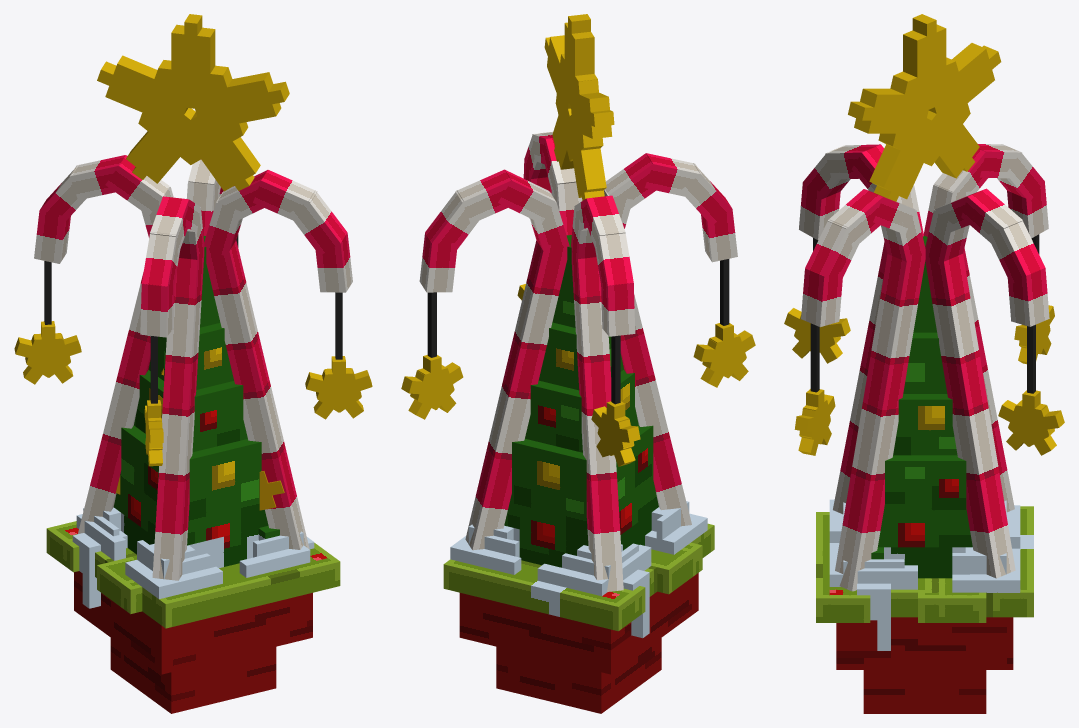
The picture shows the model from 3 angles, left to right: view 1: azimuth 30°, elevation 25°; view 2: azimuth 150°, elevation 25°; view 3: azimuth 270°, elevation 25°; orthographic projection.
Visible parts, largest first — view 1: DI-Local, dabz$$(3)-Local, dabz-Local, dabz$$(2)-Local, z1$$(1)-Local, z4$$(1)-Local, z3$$(1)-Local, z2$$(1)-Local, z5$$(1)-Local, da05-Local, da04-Local, da03$$(2)-Local (+17 smaller); view 2: DI-Local, dabz$$(1)-Local, dabz$$(2)-Local, dabz$$(3)-Local, z2$$(1)-Local, z1$$(1)-Local, z3$$(1)-Local, da05$$(2)-Local, da06$$(1)-Local, da04$$(1)-Local, da06$$(2)-Local, da03$$(1)-Local (+20 smaller); view 3: DI-Local, dabz-Local, dabz$$(1)-Local, z1$$(1)-Local, z5$$(1)-Local, z3$$(1)-Local, z4$$(1)-Local, z2$$(1)-Local, dabz$$(3)-Local, da05$$(1)-Local, da06-Local, da06$$(1)-Local (+29 smaller).
Part boxes in pixels (x1,y1,x2,y2): DI-Local: (46,236,340,713); dabz$$(3)-Local: (152,248,204,580); dabz-Local: (206,240,309,549); dabz$$(2)-Local: (78,272,150,533); z1$$(1)-Local: (158,14,227,111); z4$$(1)-Local: (168,104,260,191); z3$$(1)-Local: (126,98,213,183); z2$$(1)-Local: (97,55,194,138); z5$$(1)-Local: (190,67,289,140); da05-Local: (288,190,347,255); da04-Local: (253,170,317,220); da03$$(2)-Local: (105,155,169,215); DI-Local: (443,235,714,713); dabz$$(1)-Local: (465,240,567,550); dabz$$(2)-Local: (571,250,623,591); dabz$$(3)-Local: (620,294,691,526); z2$$(1)-Local: (568,77,614,147); z1$$(1)-Local: (561,14,597,115); z3$$(1)-Local: (563,115,606,200); da05$$(2)-Local: (593,231,633,291); da06$$(1)-Local: (419,232,457,292); da04$$(1)-Local: (455,169,511,223); da06$$(2)-Local: (601,283,635,336); da03$$(1)-Local: (498,170,555,223); DI-Local: (816,235,1033,713); dabz-Local: (835,252,925,591); dabz$$(1)-Local: (925,254,1015,578); z1$$(1)-Local: (893,14,955,118); z5$$(1)-Local: (848,76,934,146); z3$$(1)-Local: (915,95,979,178); z4$$(1)-Local: (869,111,945,201); z2$$(1)-Local: (928,43,1001,136); dabz$$(3)-Local: (833,242,887,514); da05$$(1)-Local: (987,219,1045,284); da06-Local: (801,268,843,327); da06$$(1)-Local: (1007,268,1049,326).
Bounding box in the file's own units: 41.11 × 108 × 41.23.
Materials: 83 (83 with a texture image).
